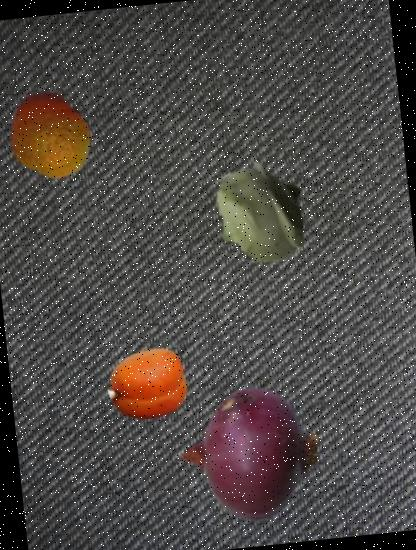Apricot: (103, 341, 192, 430)
Kohlrabi: (204, 157, 318, 271)
Mandarine: (0, 84, 100, 186)
Onion: (172, 378, 324, 530)
